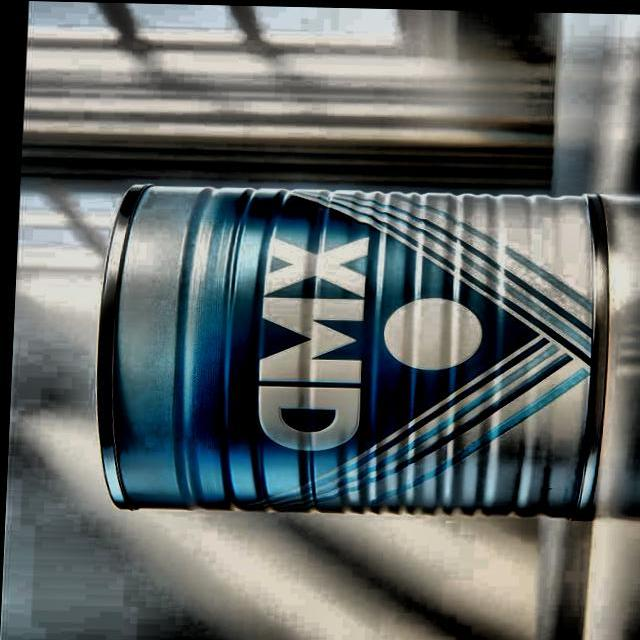Aluminum Can: (78, 170, 622, 532)
